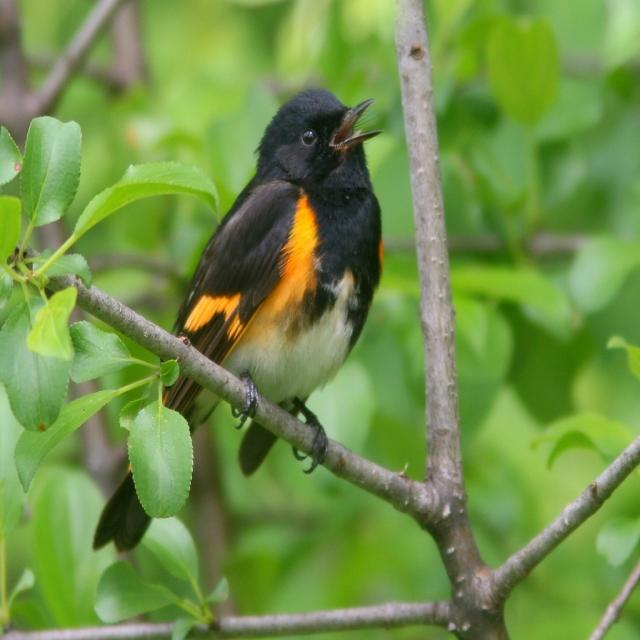bird: (90, 70, 386, 552)
